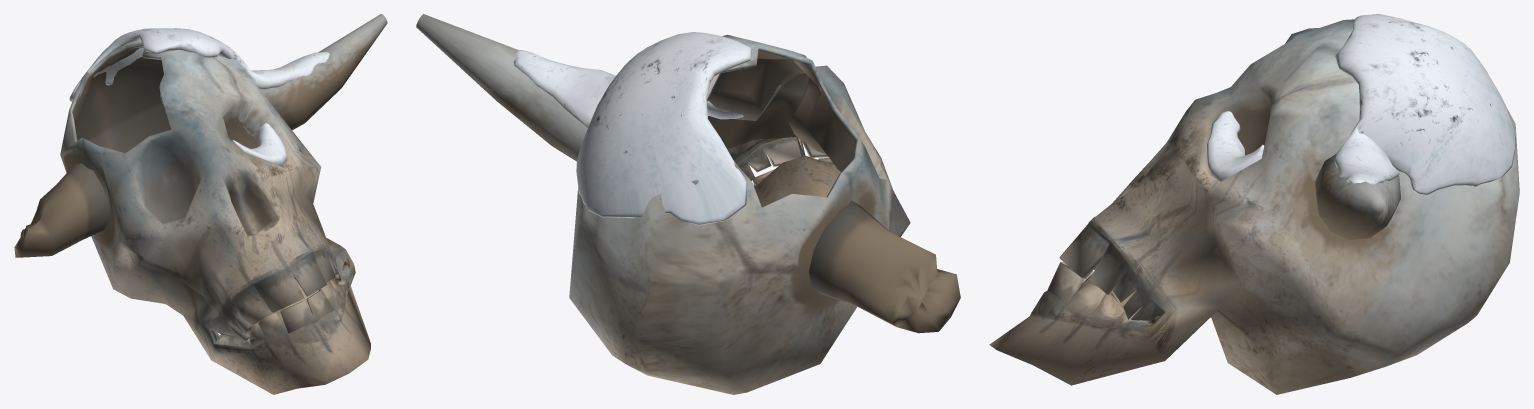
File: horned skull.fbx
3 renders of one model, left to right at view 1: azimuth 30°, elevation 25°; view 2: azimuth 150°, elevation 25°; view 3: azimuth 270°, elevation 25°, orthographic. The views are drawn at different scales.
Visible parts, largest first — view 1: JotunSkullNormal, horned snow; view 2: JotunSkullNormal, horned snow; view 3: JotunSkullNormal, horned snow.
Part boxes in pixels (left/top/right/bottom): JotunSkullNormal: left=14, top=14, right=387, bottom=394; horned snow: left=69, top=28, right=329, bottom=165; JotunSkullNormal: left=416, top=14, right=960, bottom=394; horned snow: left=513, top=32, right=780, bottom=225; JotunSkullNormal: left=989, top=19, right=1519, bottom=394; horned snow: left=1207, top=14, right=1515, bottom=194.
Bounding box in the file's own units: 33.58 × 22.69 × 31.48.
